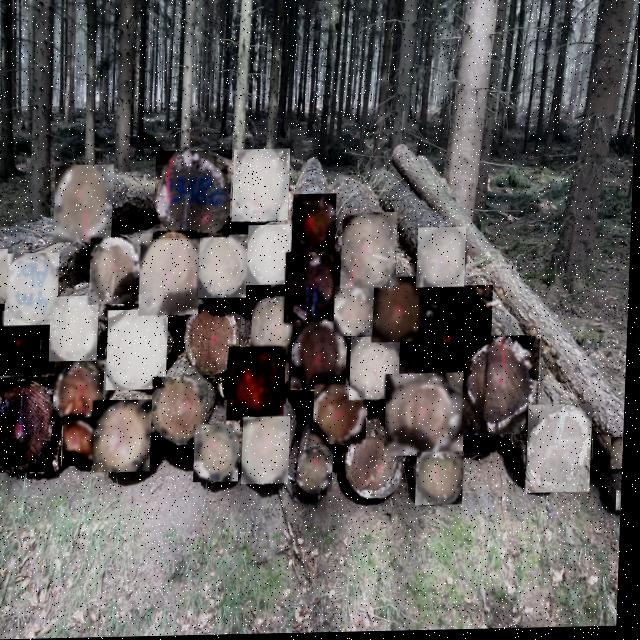wood-log: (467, 339, 542, 437), (422, 288, 493, 387), (156, 152, 231, 239), (389, 375, 468, 457), (0, 378, 65, 473), (531, 407, 595, 495), (109, 310, 170, 390), (142, 235, 202, 316), (56, 166, 114, 242), (344, 214, 398, 290), (98, 400, 154, 473), (234, 151, 291, 222), (187, 305, 243, 377), (231, 349, 287, 421), (287, 254, 344, 323), (8, 253, 61, 325), (155, 378, 211, 445), (294, 323, 350, 389), (92, 239, 143, 305), (375, 279, 426, 344), (317, 387, 370, 446), (245, 419, 293, 484), (53, 296, 100, 362), (201, 236, 249, 298), (354, 338, 401, 401), (57, 361, 106, 421), (420, 230, 468, 289), (250, 226, 297, 286), (0, 311, 42, 375), (197, 426, 243, 483), (294, 195, 337, 253), (420, 454, 467, 507), (254, 303, 296, 356), (337, 288, 376, 338), (66, 419, 100, 466), (301, 451, 336, 494), (0, 249, 10, 303), (615, 441, 625, 471), (620, 494, 624, 513)
